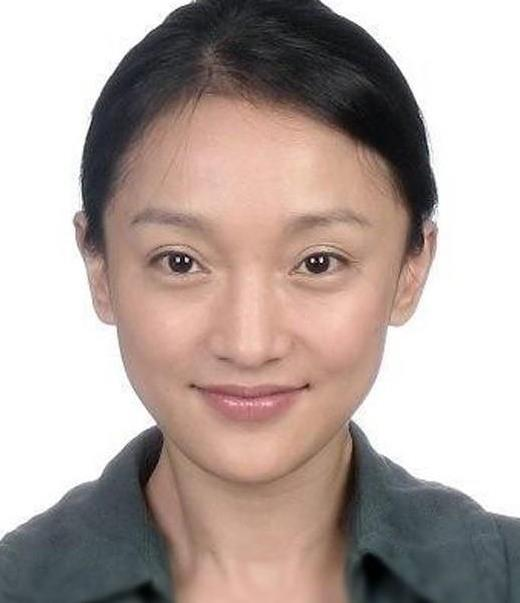unmask: (101, 118, 390, 467)
